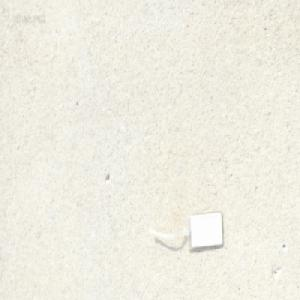LuggageTag: (146, 207, 222, 250)
